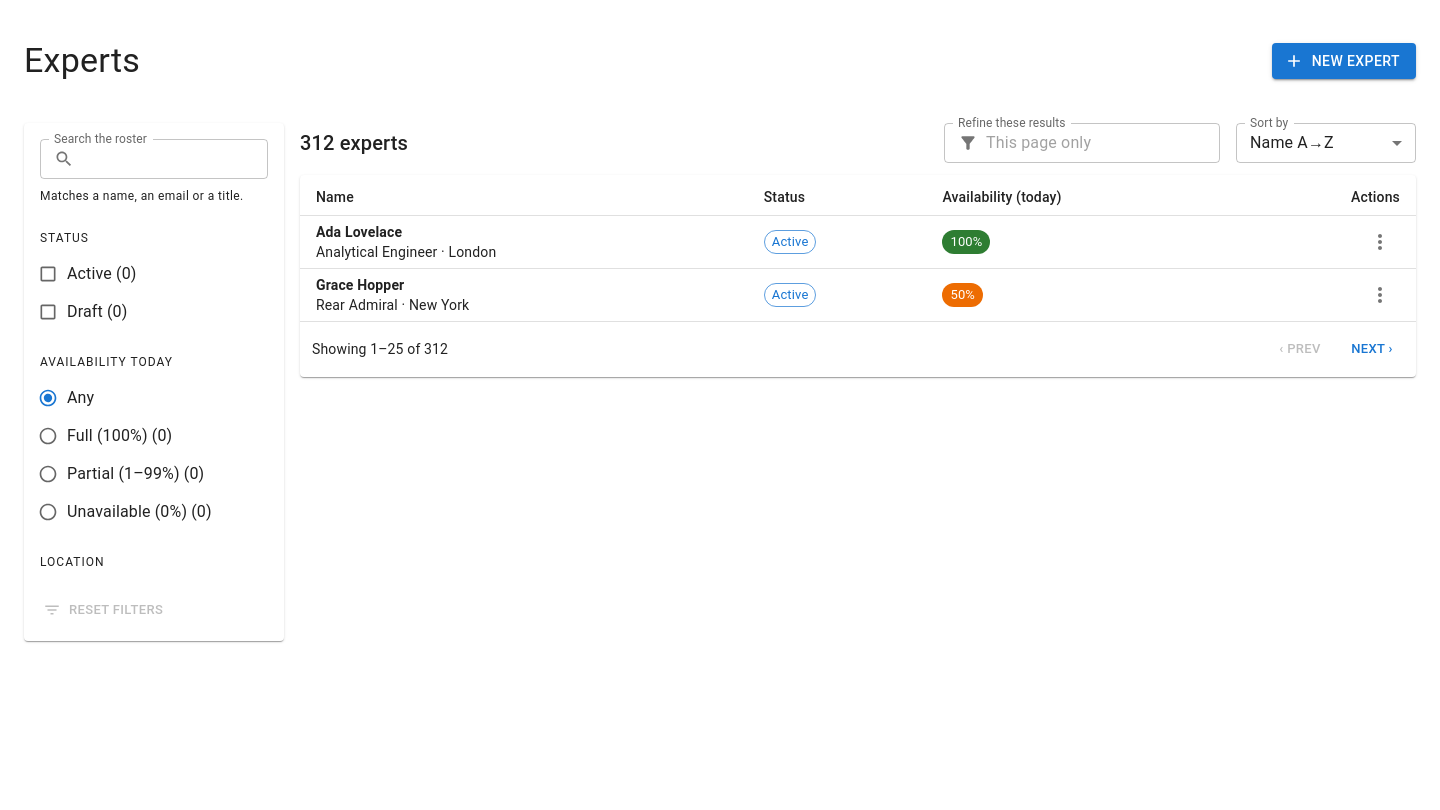
Test: Edit… — the only way to a write › deletes from inside the dialog, behind its own confirmation
Step 1. Click the button named "Actions for Ada Lovelace" → click(1380, 242), box [1360,222,1400,262]
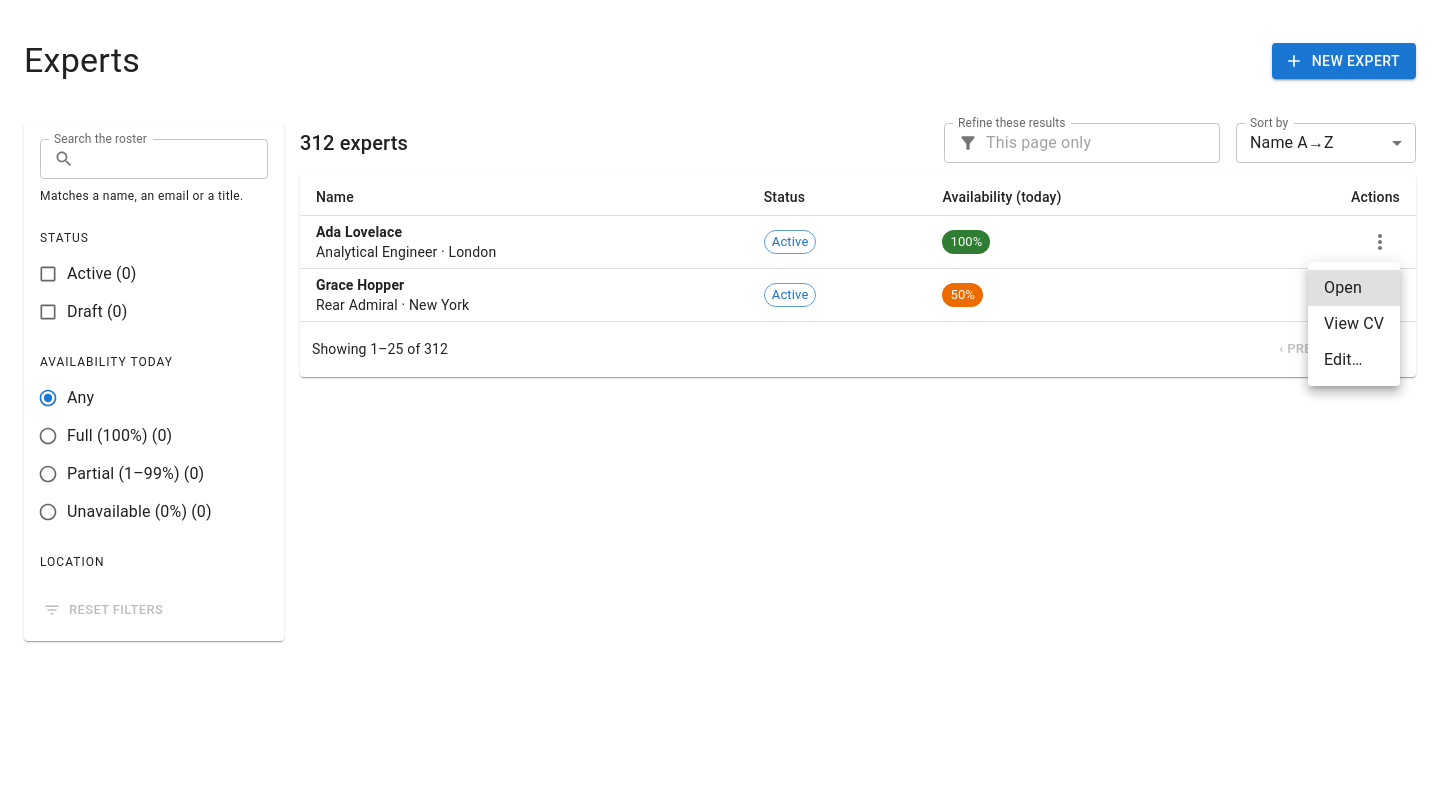
Step 2. Click the menu item "Edit…" → click(1343, 360), box [1324,350,1363,369]
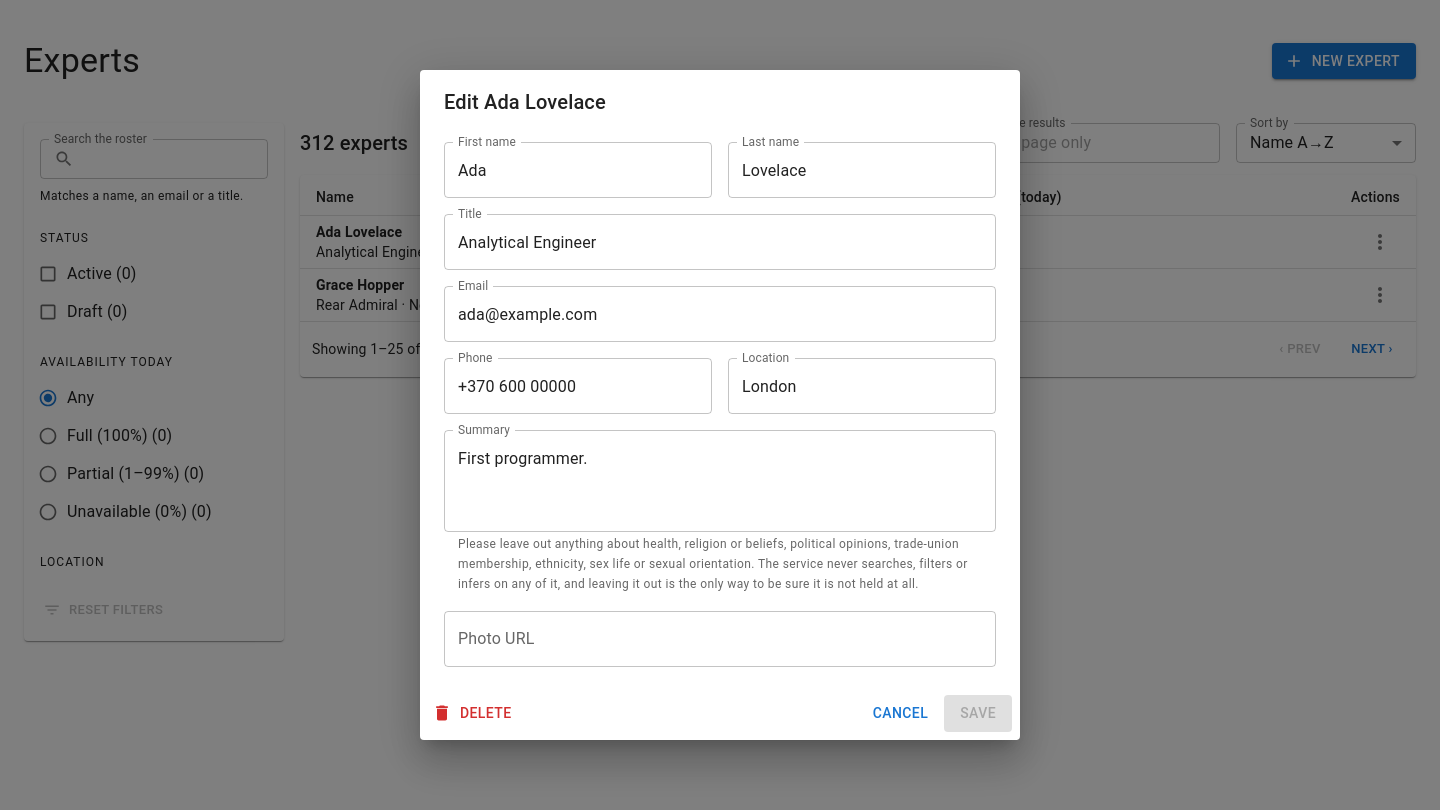
Step 3. Click the button "Delete" → click(474, 713), box [428,695,520,732]
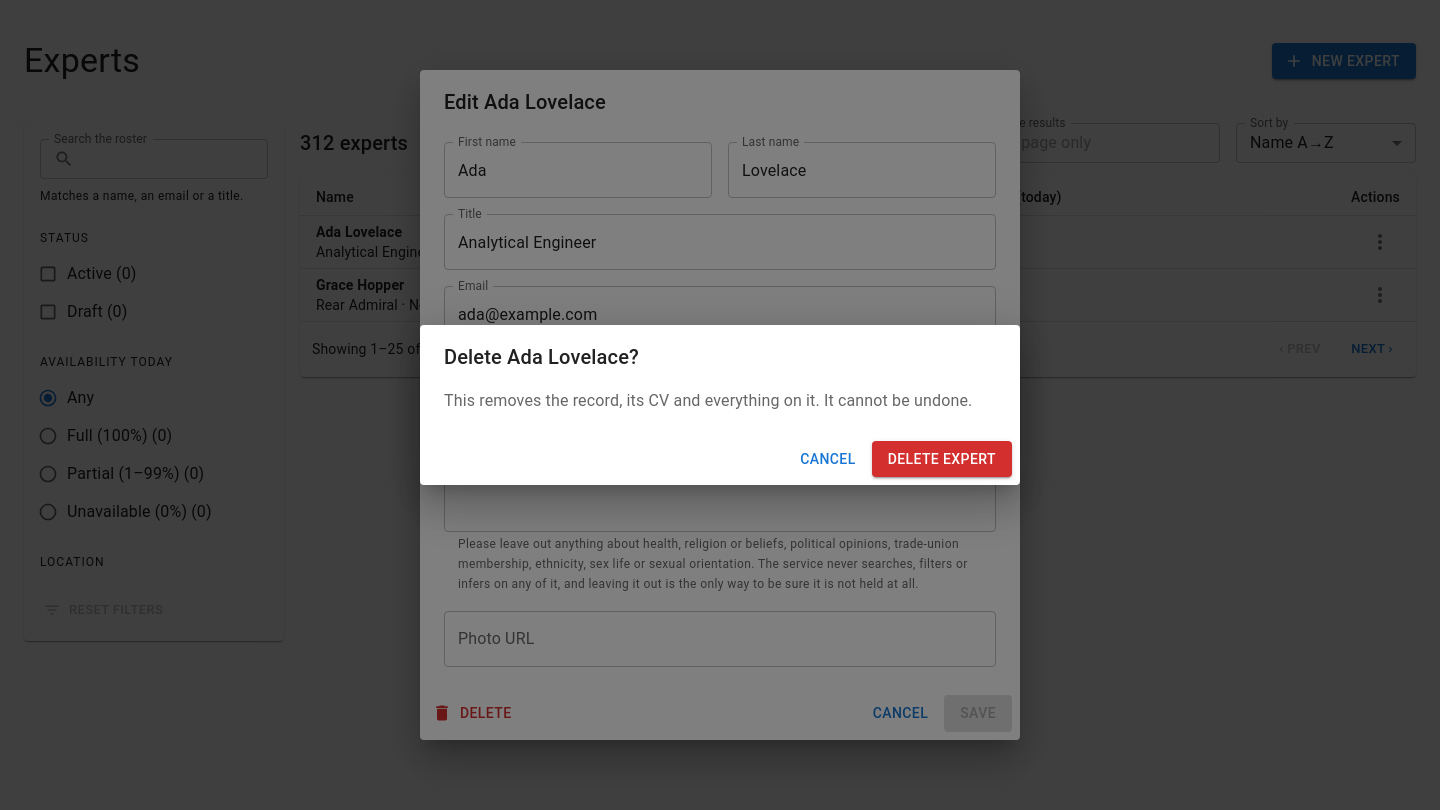
Step 4. Click the button "Delete expert" → click(942, 459), box [872,441,1012,477]
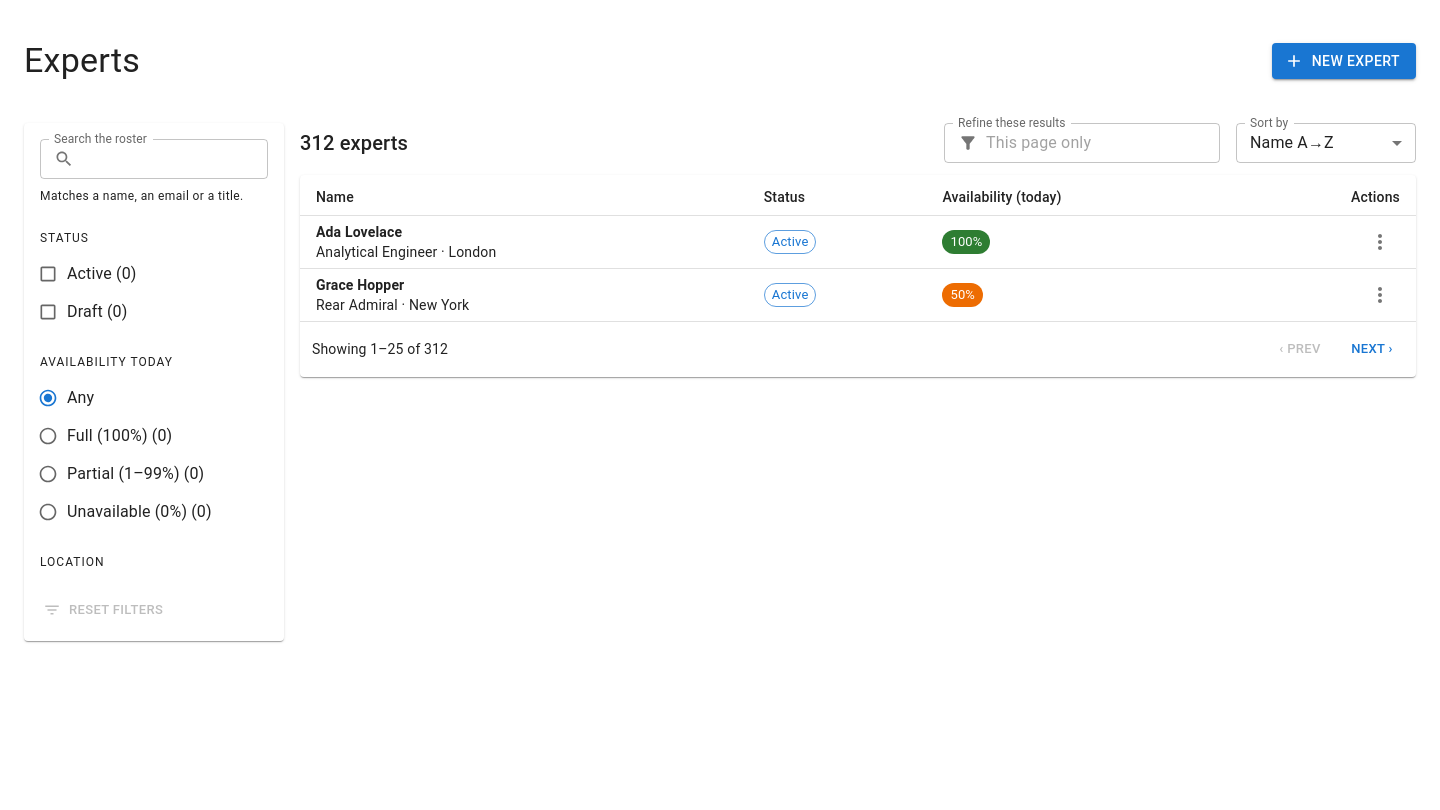
Expected: the dialog is gone
